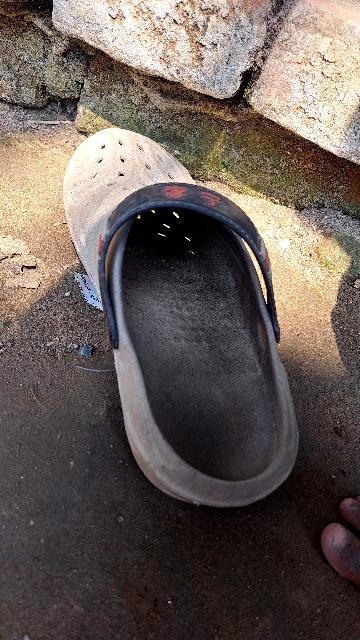sandal: (0, 84, 323, 545)
